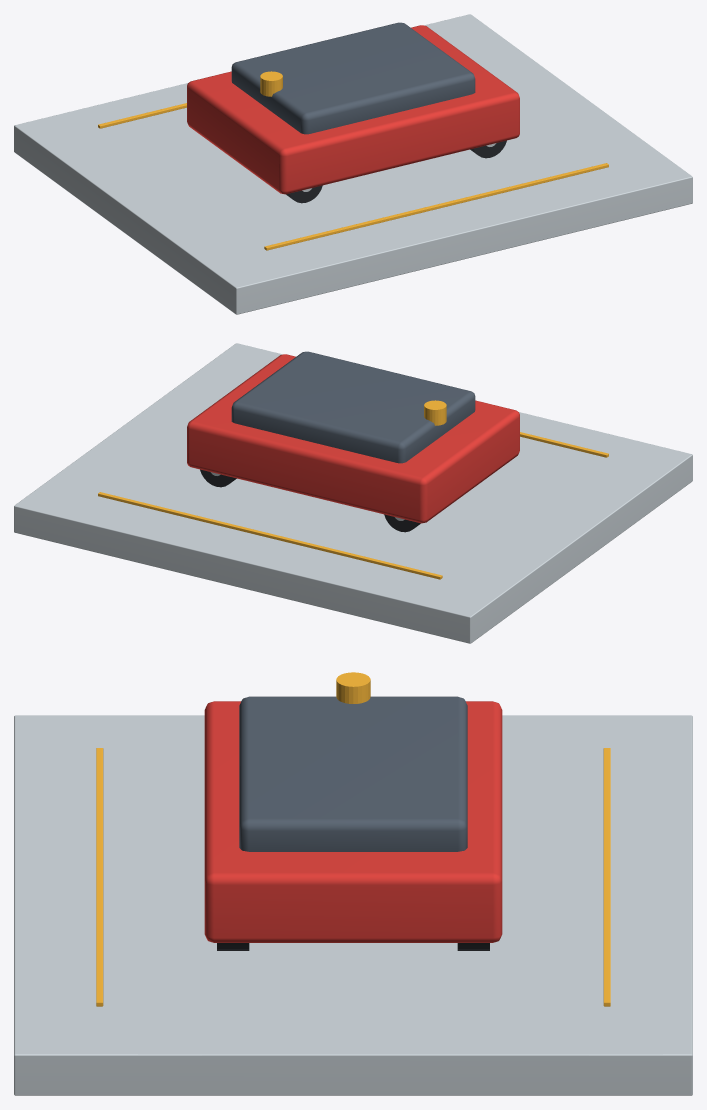
The picture shows the model from 3 angles, top to bottom: view 1: azimuth 30°, elevation 25°; view 2: azimuth 150°, elevation 25°; view 3: azimuth 270°, elevation 25°; orthographic projection. The views are drawn at different scales.
Parts seen in each view (by area): view 1: Ground plane, Autonomous platform, Top load interface, Concept clearance guide, E-stop button, Concept clearance guide.001; view 2: Ground plane, Autonomous platform, Top load interface, Concept clearance guide.001, E-stop button, Concept clearance guide; view 3: Ground plane, Autonomous platform, Top load interface, Concept clearance guide, Concept clearance guide.001, E-stop button.
Part boxes in pixels (box(x1,y1,x2,y2)): Ground plane: box(14, 14, 692, 314); Autonomous platform: box(187, 25, 519, 194); Top load interface: box(231, 22, 475, 134); Concept clearance guide: box(264, 163, 608, 250); E-stop button: box(260, 71, 282, 96); Concept clearance guide.001: box(98, 103, 186, 128); Ground plane: box(14, 343, 692, 643); Autonomous platform: box(187, 354, 519, 523); Top load interface: box(231, 351, 475, 463); Concept clearance guide.001: box(98, 492, 442, 579); E-stop button: box(424, 400, 446, 425); Concept clearance guide: box(520, 432, 608, 457); Ground plane: box(14, 715, 692, 1095); Autonomous platform: box(204, 701, 502, 942); Top load interface: box(239, 696, 467, 851); Concept clearance guide: box(96, 748, 103, 1006); Concept clearance guide.001: box(603, 748, 610, 1006); E-stop button: box(336, 672, 370, 703).
Bounding box in the file's own units: 2.11 × 0.5378 × 1.78.
